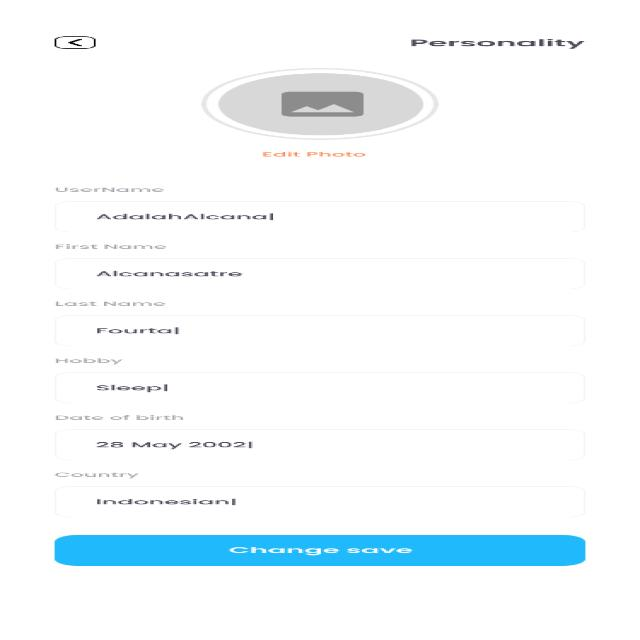button: (26, 532, 630, 580)
icon button: (22, 26, 131, 57)
image: (168, 59, 448, 146)
input: (31, 476, 629, 528), (31, 367, 626, 411), (35, 423, 629, 467), (31, 308, 622, 352), (35, 254, 619, 298), (39, 198, 609, 235)
